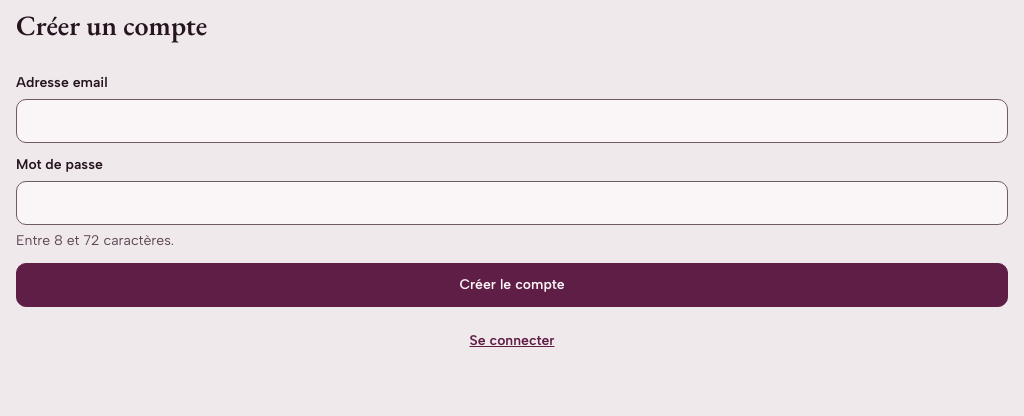
Test case: Inscription › saisie vide : une erreur sous chaque champ, rien n’est envoyé, le premier champ en erreur a le focus
What coordinates should you click on to do the following:
click the button "Créer le compte"
I would click on:
 (512, 284)
Its box is [16,262,1008,306].
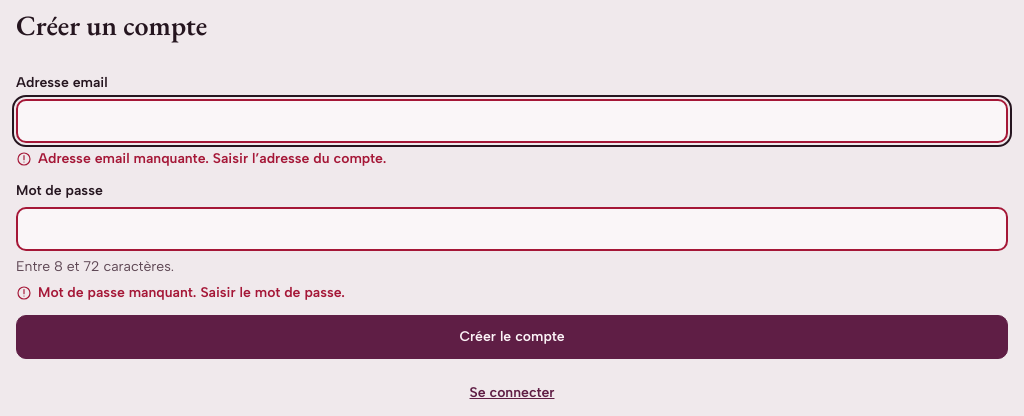
Expected: the element showing "Adresse email manquante. Saisir l’adresse du compte." is shown, [16,150,386,166]
Expected: the element showing "Mot de passe manquant. Saisir le mot de passe." is shown, [16,284,345,300]
